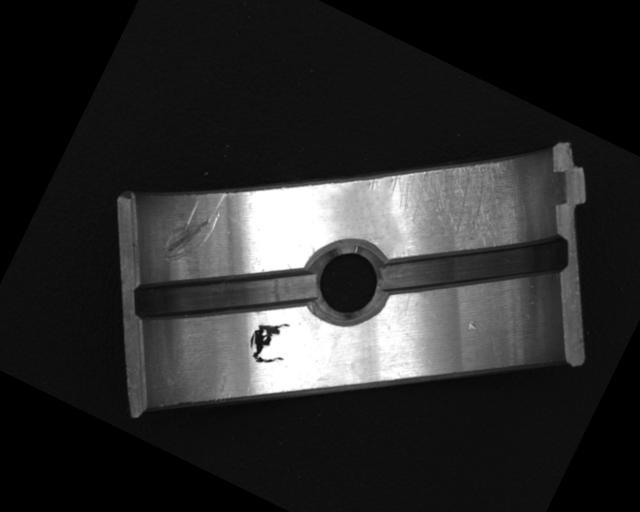blot: (241, 310, 300, 373)
bruise: (465, 318, 480, 333)
gap: (374, 171, 577, 355), (125, 206, 318, 379)
hole: (293, 230, 403, 339)
nick: (155, 176, 231, 275)
scratch: (359, 105, 550, 272)
